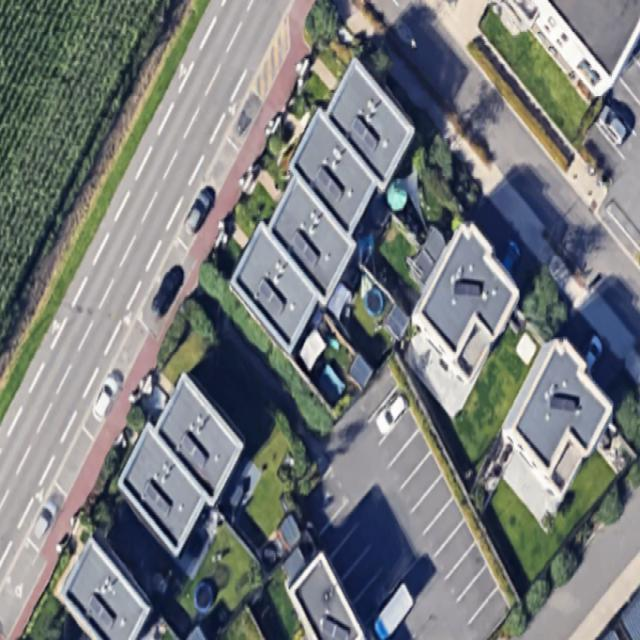maison: (386, 214, 544, 385), (477, 329, 631, 501), (97, 420, 226, 561), (134, 372, 260, 507), (212, 221, 337, 357), (247, 174, 375, 305), (306, 56, 429, 190), (271, 107, 394, 240), (41, 536, 159, 640), (276, 550, 365, 640)
